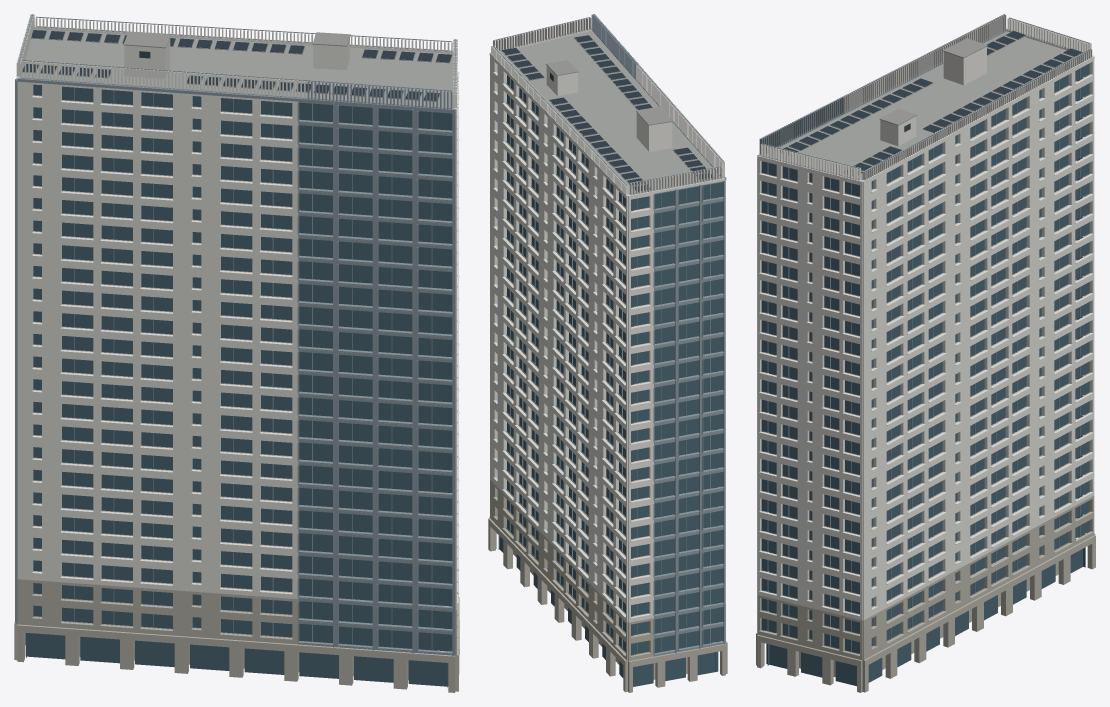
The model's file is bespoke-maple-xi-111.glb.
The picture shows the model from 3 angles, left to right: view 1: azimuth 30°, elevation 25°; view 2: azimuth 150°, elevation 25°; view 3: azimuth 270°, elevation 25°; orthographic projection. The views are drawn at different scales.
Visible parts, largest first — view 1: Maple111_e0_dark_glass, Maple111_numbered_plan_inset_body, Maple111_e0_dark_piers, Maple111_recessed_stone_lobby, Maple111_numbered_plan_roof, Maple111_PV_cells, Maple111_e0_dark_spandrel_joint, Maple111_PV_frame; view 2: Maple111_numbered_plan_inset_body, Maple111_e0_dark_glass, Maple111_e0_dark_piers, Maple111_recessed_stone_lobby, Maple111_numbered_plan_roof, Maple111_PV_cells, Maple111_e0_dark_spandrel_joint, Maple111_PV_frame; view 3: Maple111_numbered_plan_inset_body, Maple111_e0_dark_glass, Maple111_recessed_stone_lobby, Maple111_e0_dark_piers, Maple111_numbered_plan_roof, Maple111_PV_cells, Maple111_PV_frame, Maple111_e0_dark_spandrel_joint.
Part boxes in pixels (x1,y1,x2,y2): Maple111_e0_dark_glass: (25,84,452,687); Maple111_numbered_plan_inset_body: (16,14,459,637); Maple111_e0_dark_piers: (15,14,455,656); Maple111_recessed_stone_lobby: (14,560,459,692); Maple111_numbered_plan_roof: (20,29,453,108); Maple111_PV_cells: (22,30,451,100); Maple111_e0_dark_spandrel_joint: (123,31,451,654); Maple111_PV_frame: (22,31,452,101); Maple111_numbered_plan_inset_body: (489,17,725,654); Maple111_e0_dark_glass: (498,75,722,686); Maple111_e0_dark_piers: (493,14,726,656); Maple111_recessed_stone_lobby: (488,478,727,692); Maple111_numbered_plan_roof: (500,30,720,194); Maple111_PV_cells: (502,35,713,191); Maple111_e0_dark_spandrel_joint: (546,60,723,655); Maple111_PV_frame: (501,36,714,192); Maple111_numbered_plan_inset_body: (757,14,1094,646); Maple111_e0_dark_glass: (761,63,1089,686); Maple111_recessed_stone_lobby: (756,493,1095,692); Maple111_e0_dark_piers: (757,14,1090,651); Maple111_numbered_plan_roof: (766,31,1073,180); Maple111_PV_cells: (780,31,1082,175); Maple111_PV_frame: (780,35,1074,174); Maple111_e0_dark_spandrel_joint: (879,38,987,125).
Bounding box in the file's own units: 49.96 × 80.82 × 46.37.
